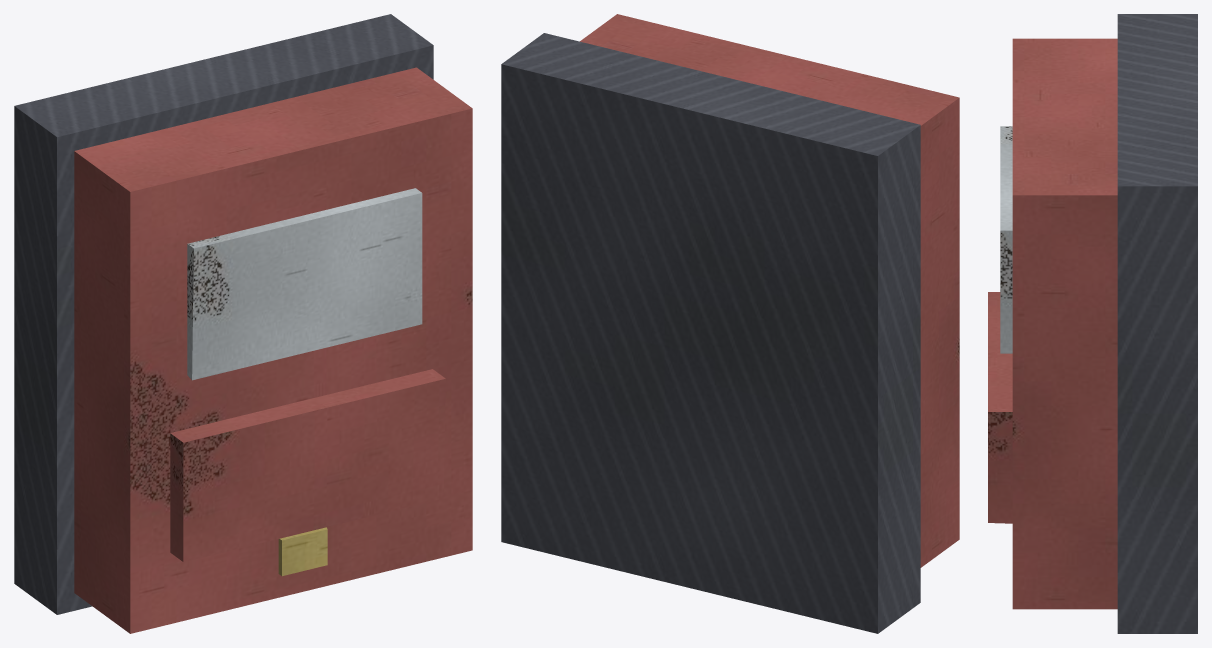
The model's file is firealarm_v4.glb.
The picture shows the model from 3 angles, left to right: view 1: azimuth 30°, elevation 25°; view 2: azimuth 150°, elevation 25°; view 3: azimuth 270°, elevation 25°; orthographic projection. The views are drawn at different scales.
Visible parts, largest first — view 1: Variant_firealarm_4; view 2: Variant_firealarm_4; view 3: Variant_firealarm_4.
Boxes of the visible parts, bbox=[...] form: Variant_firealarm_4: bbox=[14, 14, 472, 633]; Variant_firealarm_4: bbox=[501, 14, 959, 633]; Variant_firealarm_4: bbox=[988, 14, 1197, 633].
Bounding box in the file's own units: 0.132 × 0.16 × 0.068.
4 materials, 4 textured.
